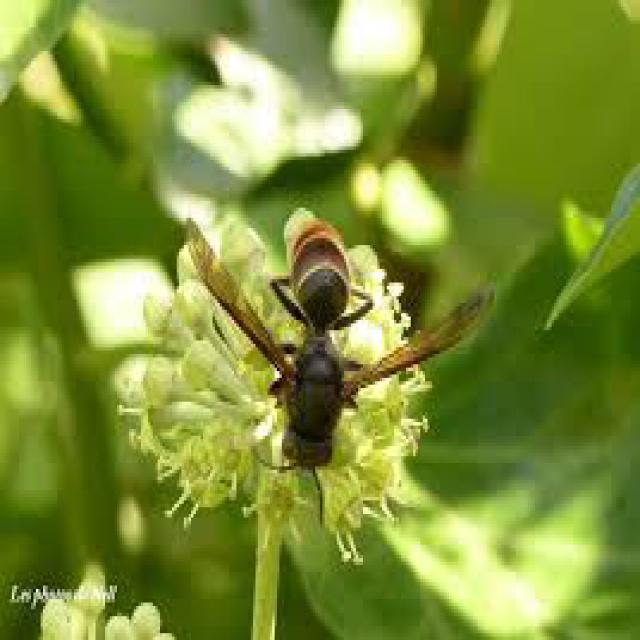Vespa Velutina: (173, 201, 505, 482)
